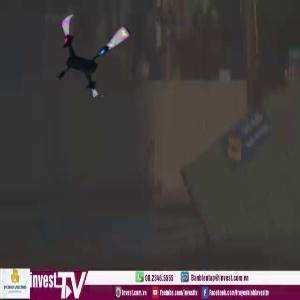drone: (43, 7, 134, 98)
